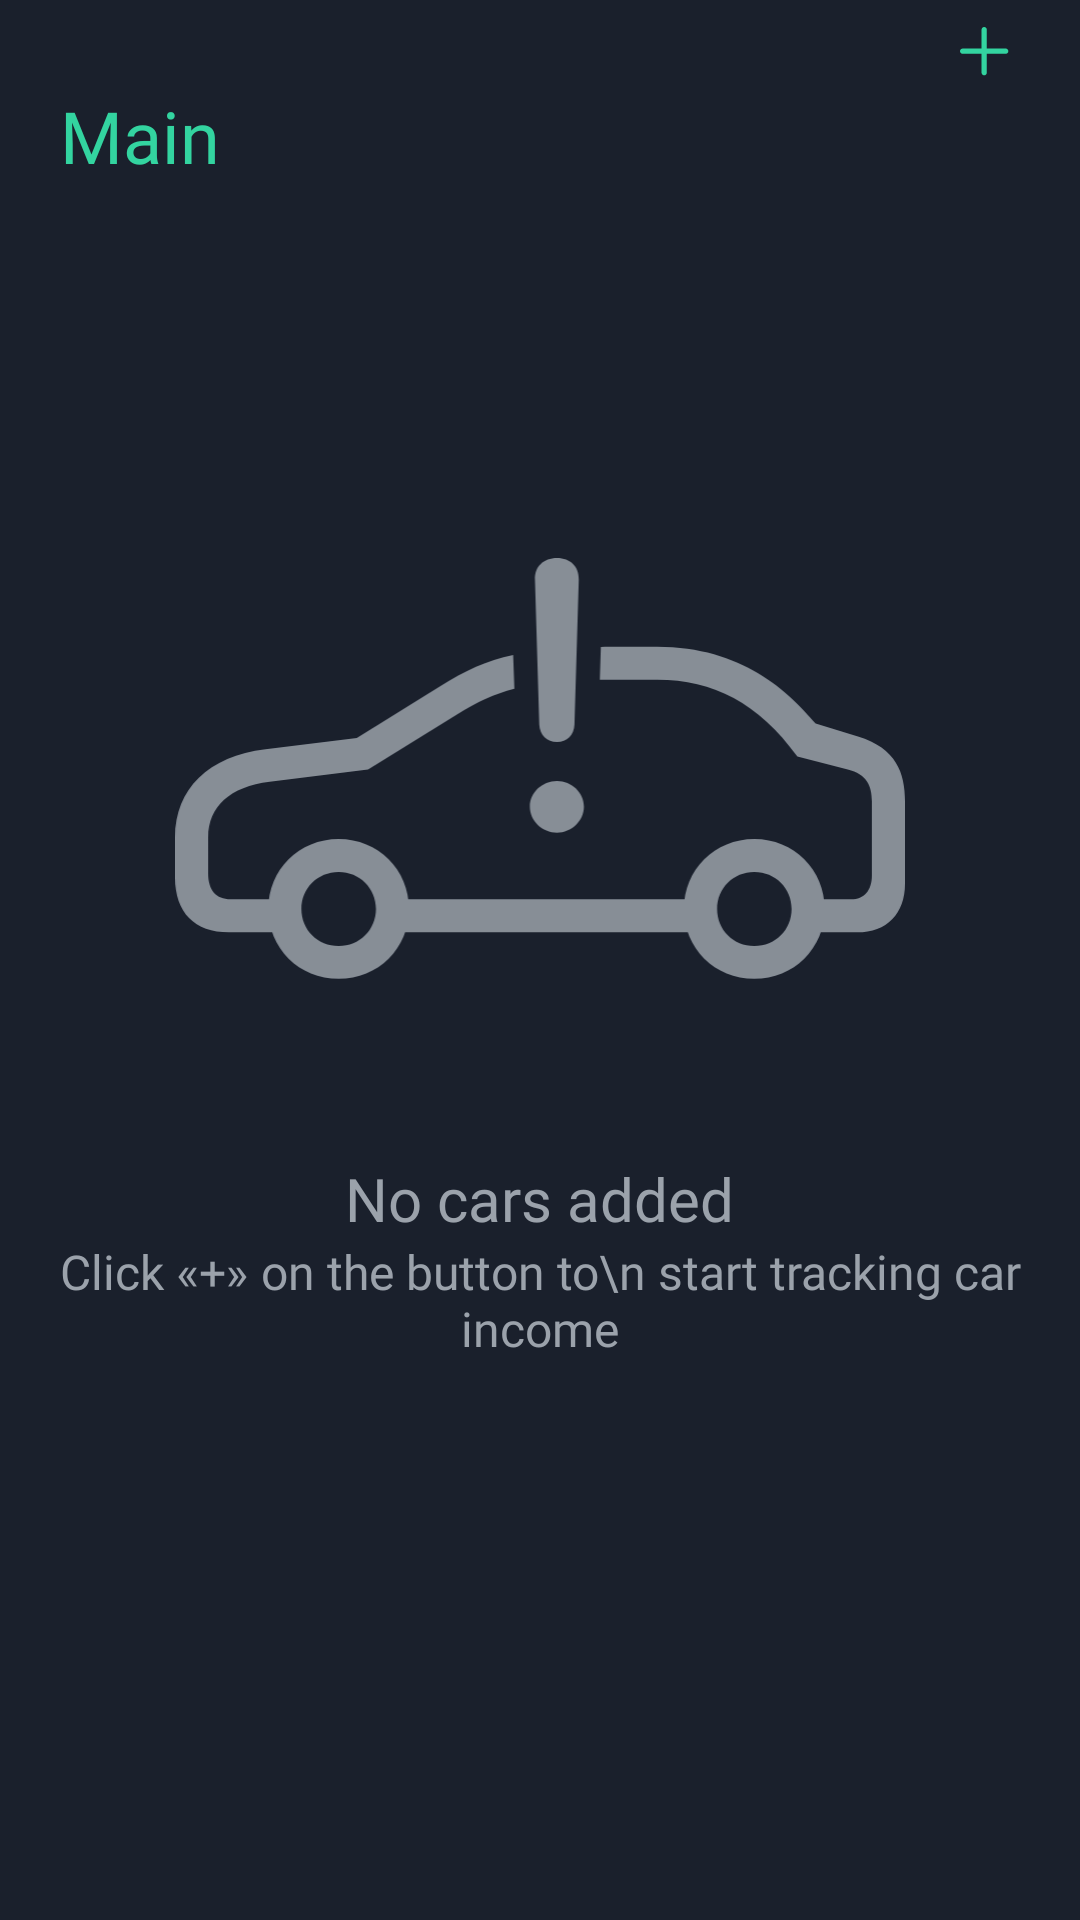

Icon bounding boxes for this 1080 x 1920 phone screenshot, format (left=x1, top=y1, right=x2, bottom=y2):
plus: (left=960, top=27, right=1009, bottom=76)
